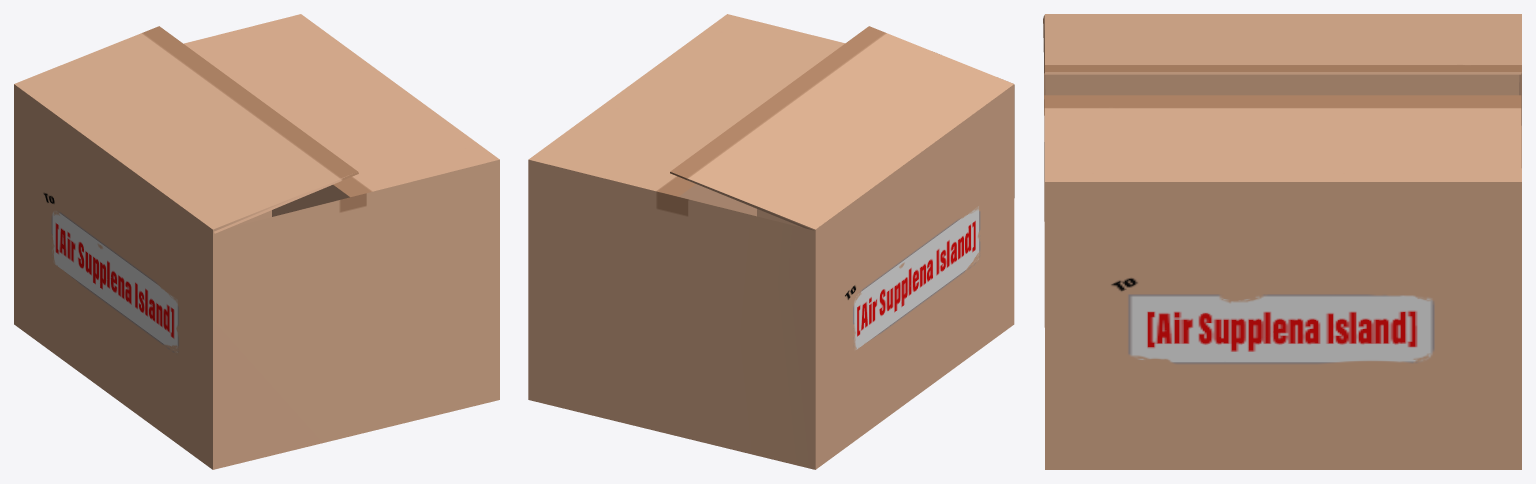
Rendered from Kartone dooz model.fbx.
The picture shows the model from 3 angles, left to right: view 1: azimuth 30°, elevation 25°; view 2: azimuth 150°, elevation 25°; view 3: azimuth 270°, elevation 25°; orthographic projection. The views are drawn at different scales.
Visible parts, largest first — view 1: pCube2; view 2: pCube2; view 3: pCube2.
Part boxes in pixels (x1=…): pCube2: x1=14, y1=14, x2=499, y2=469; pCube2: x1=528, y1=14, x2=1014, y2=469; pCube2: x1=1043, y1=14, x2=1521, y2=469.
Size of the model in its own units: 50 by 43.75 by 60.26.
Materials: 1 (1 with a texture image).
